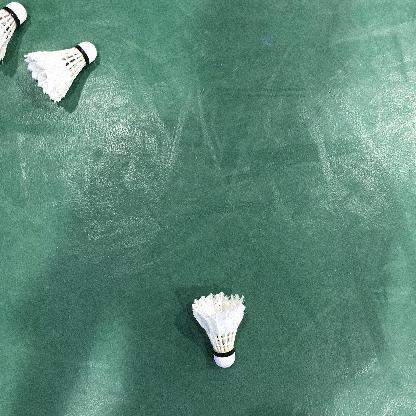ball_single: (24, 42, 97, 102), (192, 292, 245, 368), (0, 2, 27, 62)
